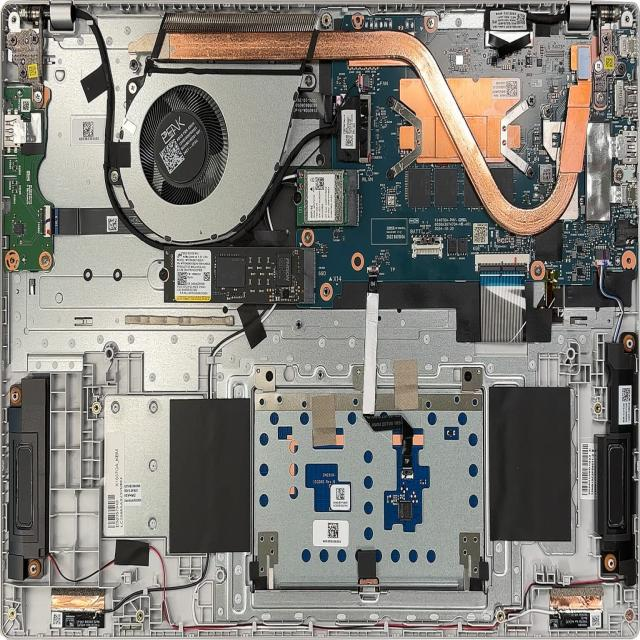ssd: (165, 245, 315, 306)
wifi: (296, 171, 357, 229)
